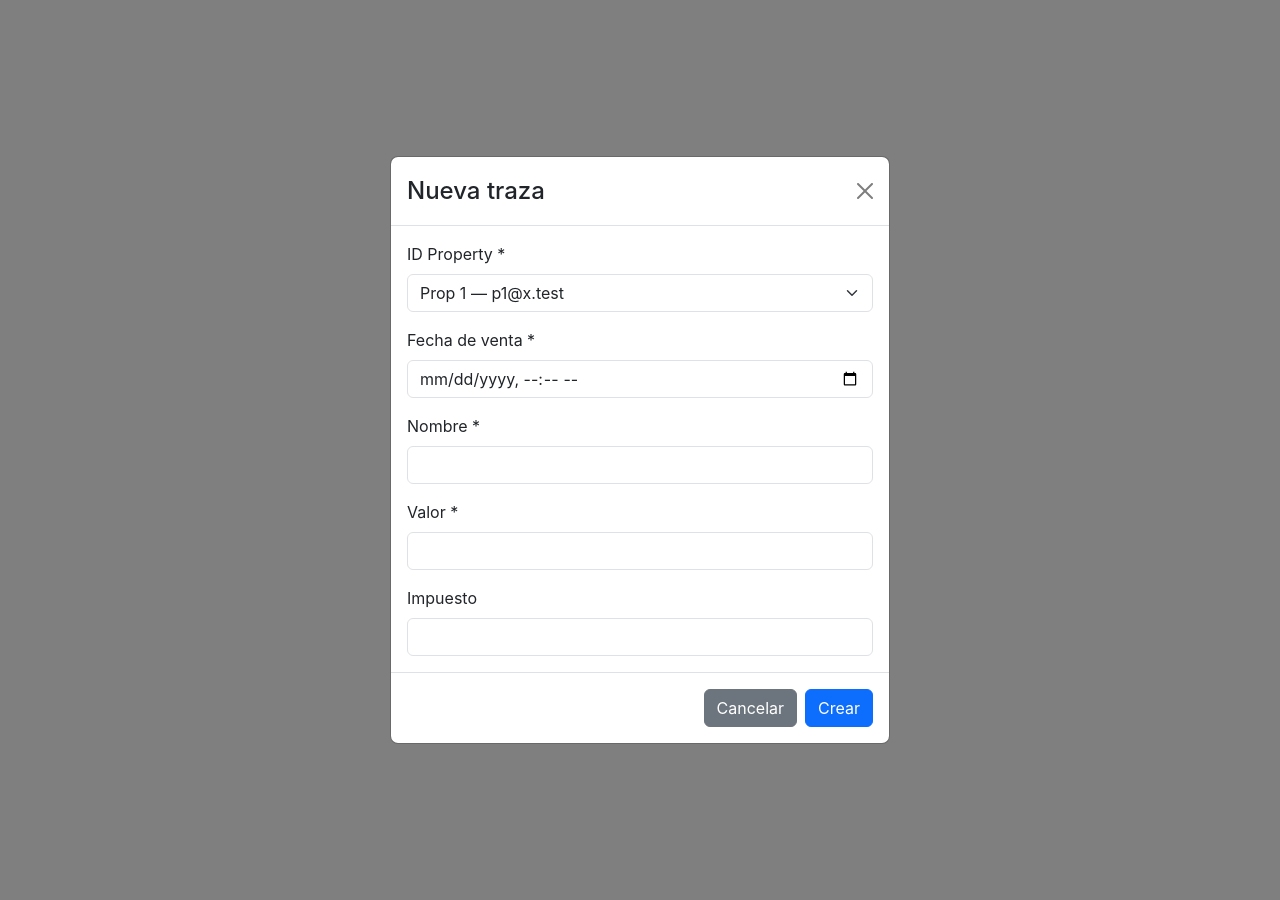
Test: PropertyTraceFormModal › modo create: si create rechaza, muestra alerta
This screenshot has width=1280, height=900.
Select "Prop 1 — p1@x.test" in the dropdown at (640, 293), box left=407, top=274, right=873, bottom=312
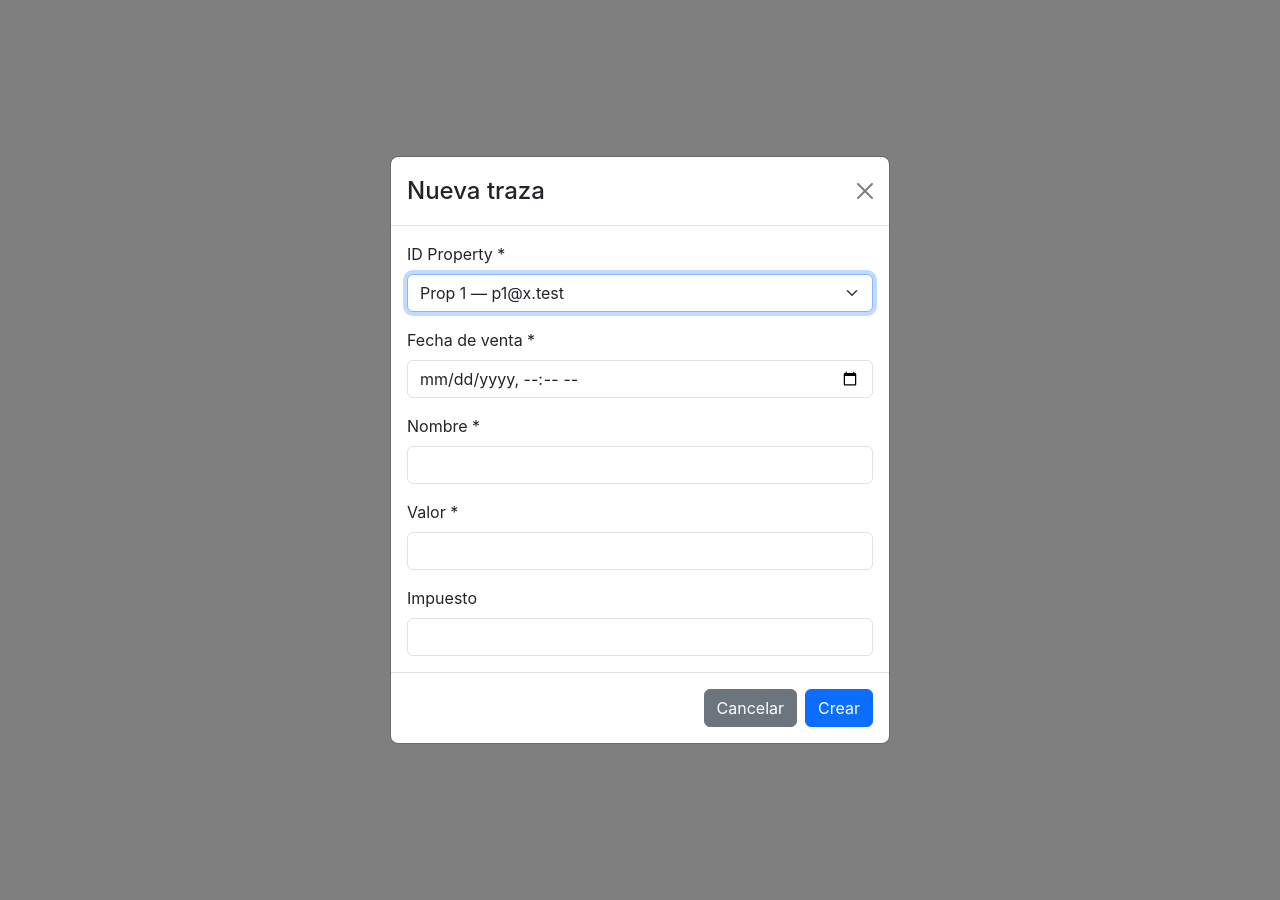
Type "2024-02-02T09:00" into the field labelled "Fecha de venta *" at (640, 379), box left=407, top=360, right=873, bottom=398
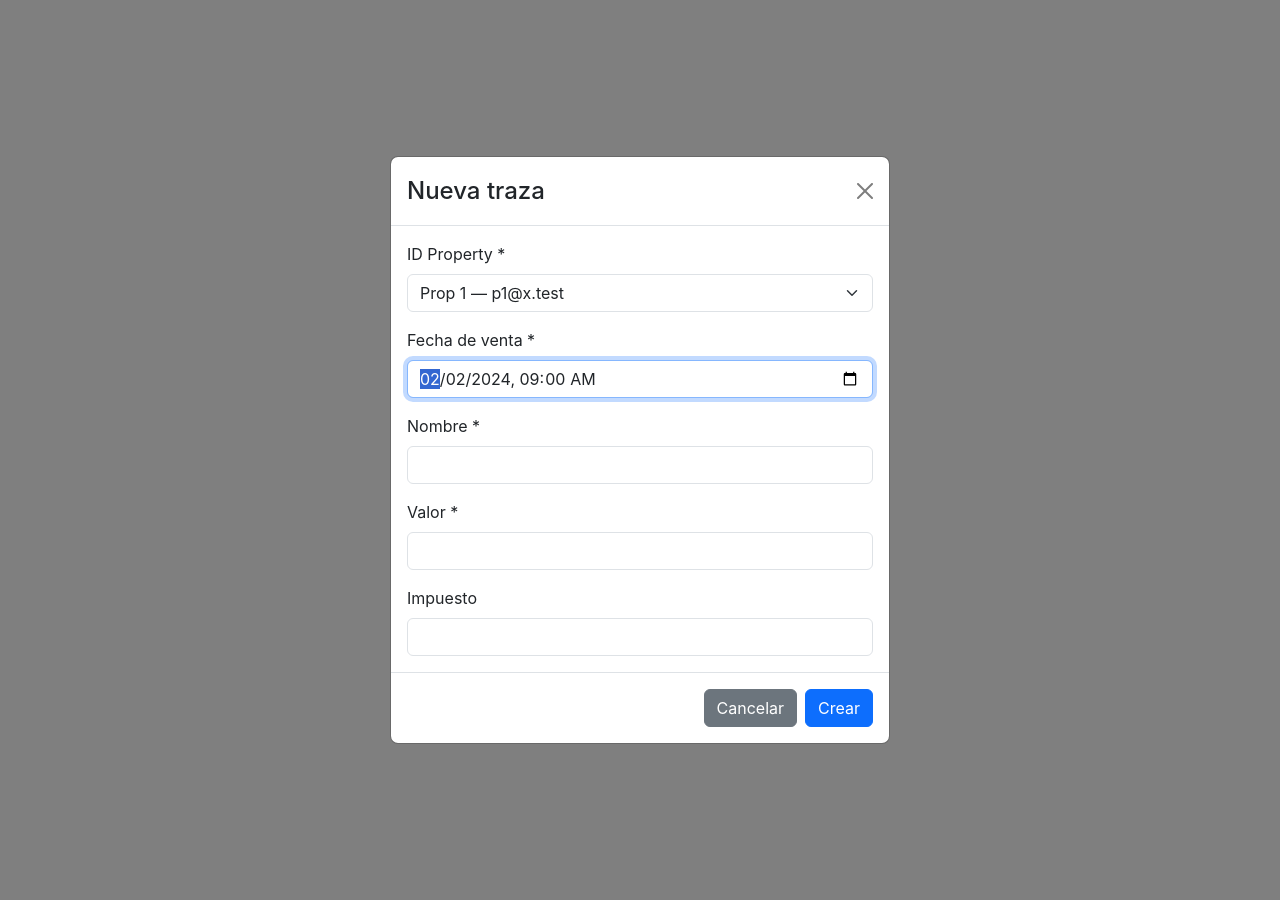
Type "Venta X" into the field labelled "Nombre *" at (640, 465), box left=407, top=446, right=873, bottom=484
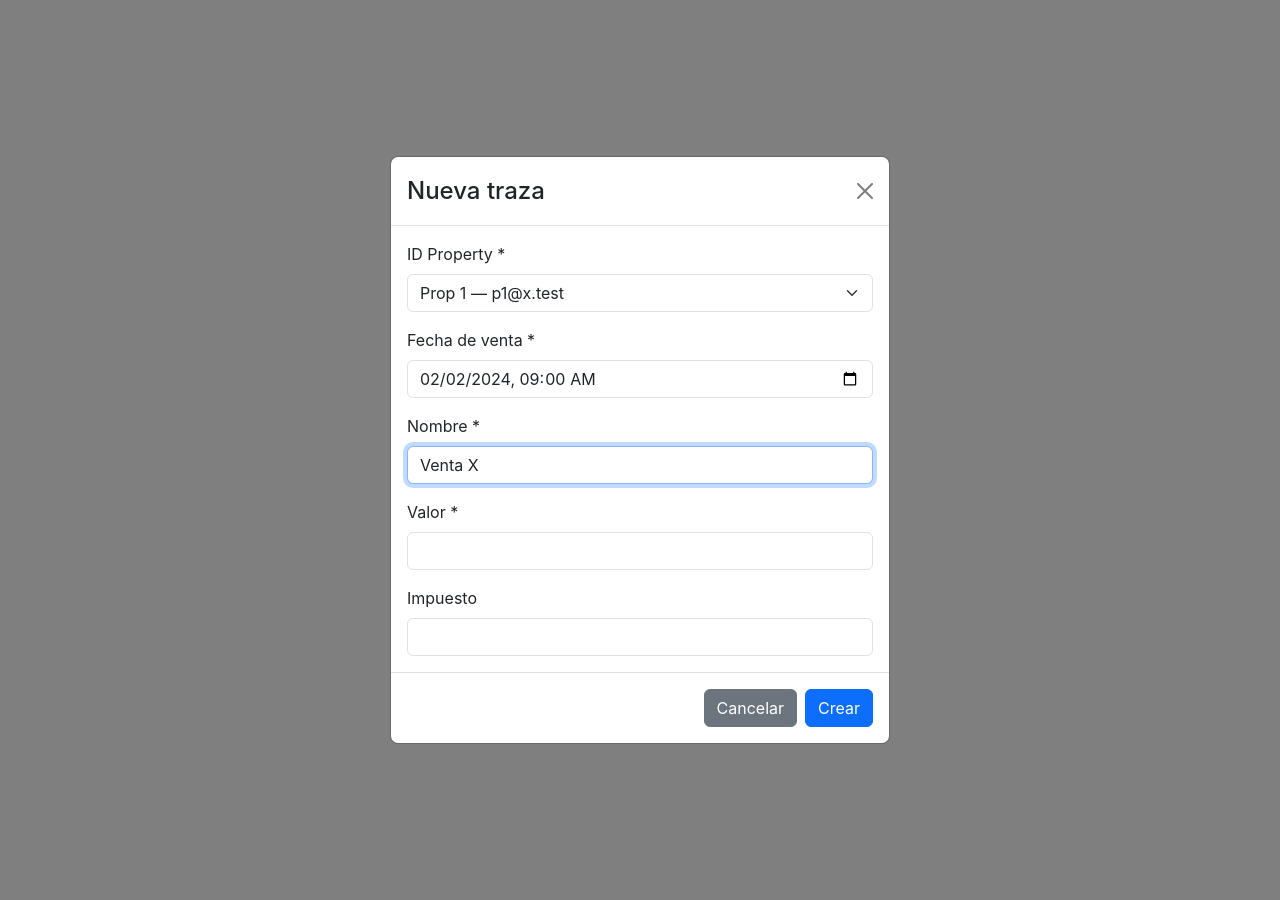
Type "10" into the number field labelled "Valor *" at (640, 551), box left=407, top=532, right=873, bottom=570
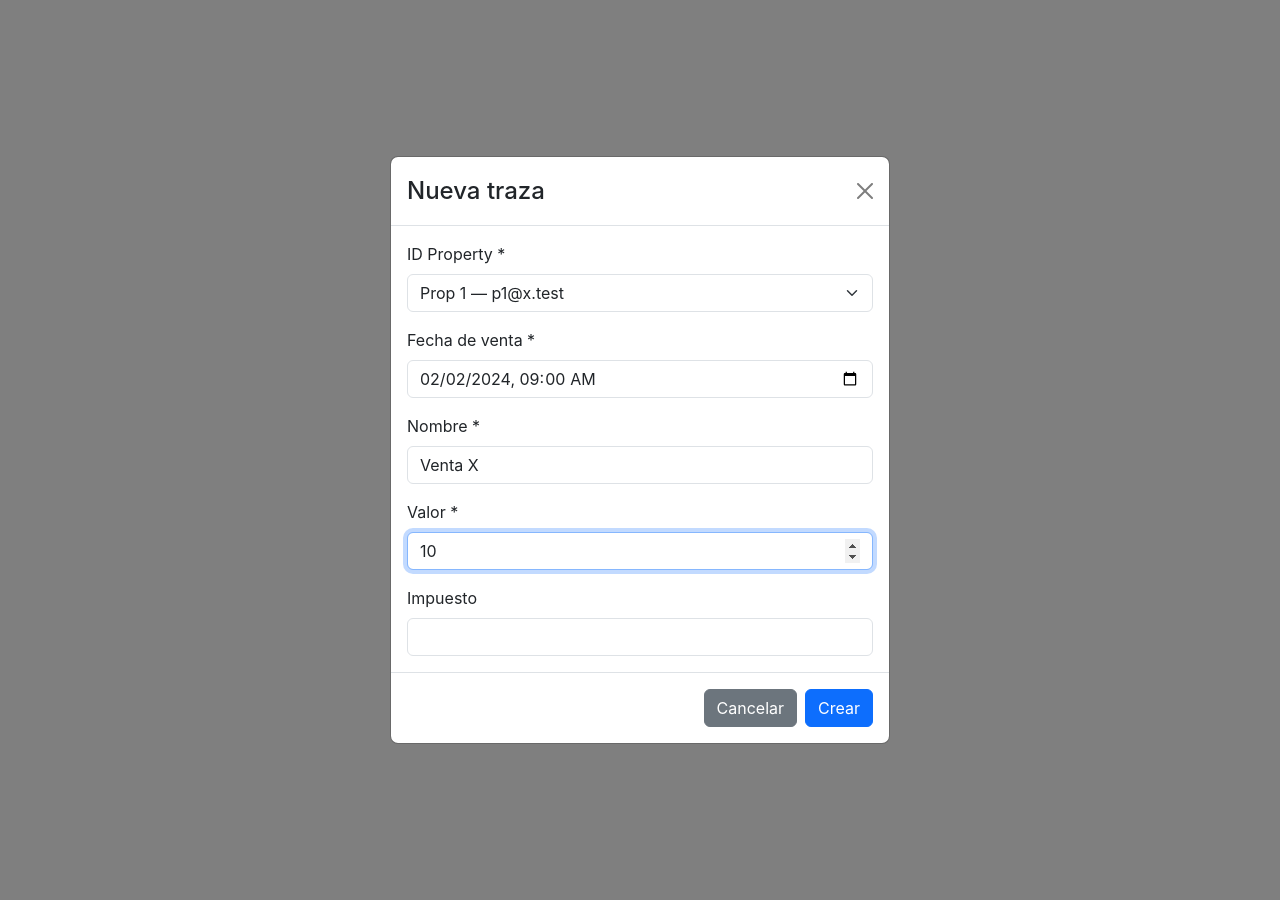
Click the button "Crear" at (839, 708), box left=805, top=689, right=873, bottom=727
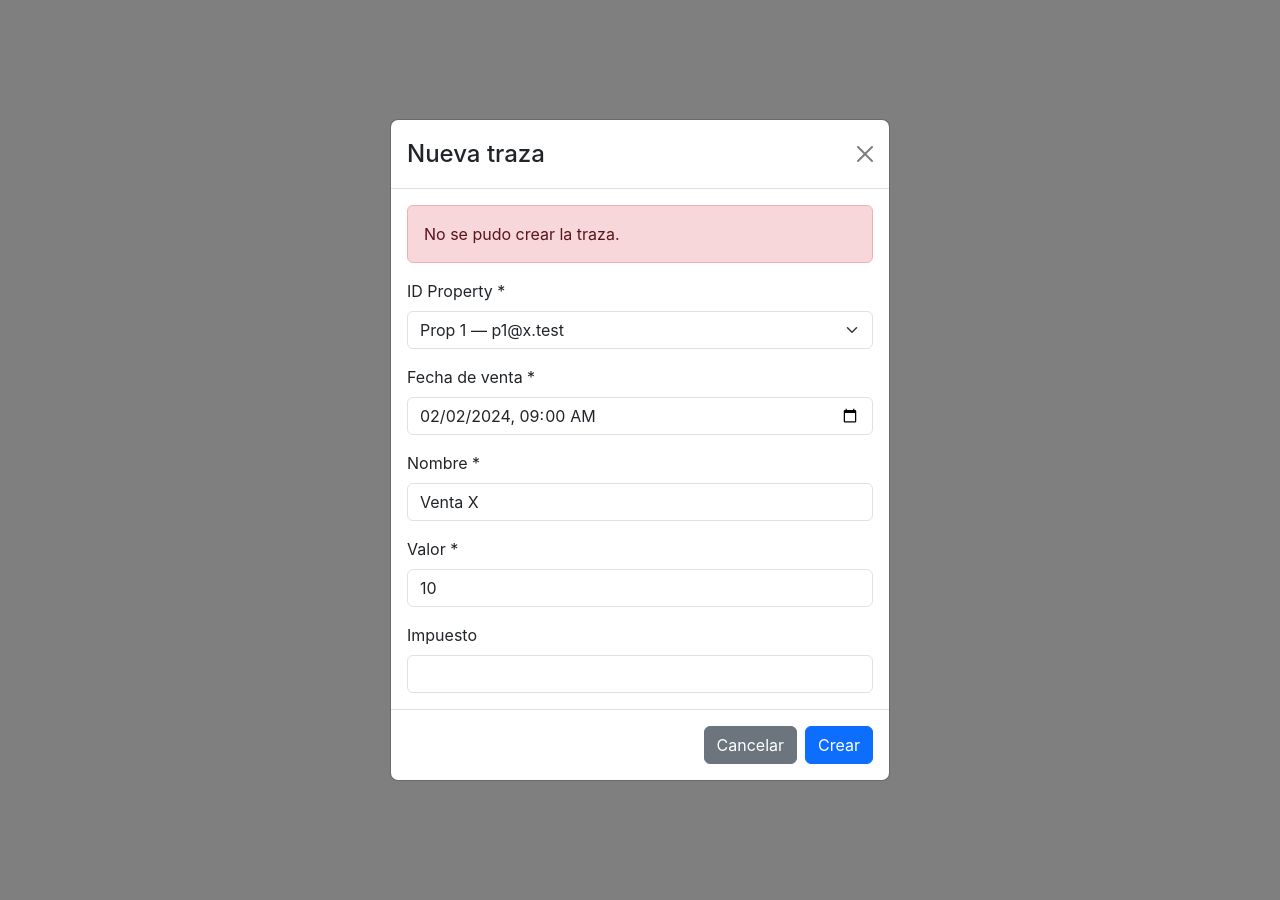
Expected: the text "No se pudo crear la traza." is shown, left=407, top=205, right=873, bottom=263
